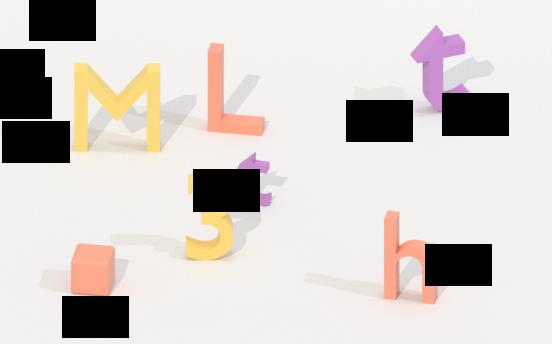3: (184, 167, 235, 265)
M-hoa: (70, 56, 167, 162)
h: (382, 205, 438, 311)
hop: (67, 238, 118, 300)
l: (201, 38, 269, 137)
t: (406, 20, 475, 115), (234, 150, 279, 212)
